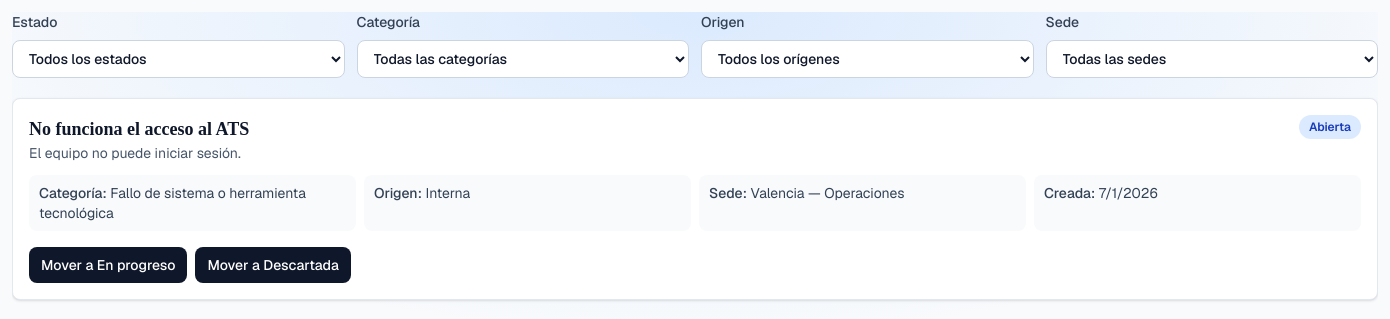
Test case: IncidentList › actualiza el estado tras confirmar la transición en el backend
Expected: the heading "No funciona el acceso al ATS" is shown, [29,115,249,143]
Click the button "Mover a En progreso". click: [108, 265]
box: [29,247,187,283]
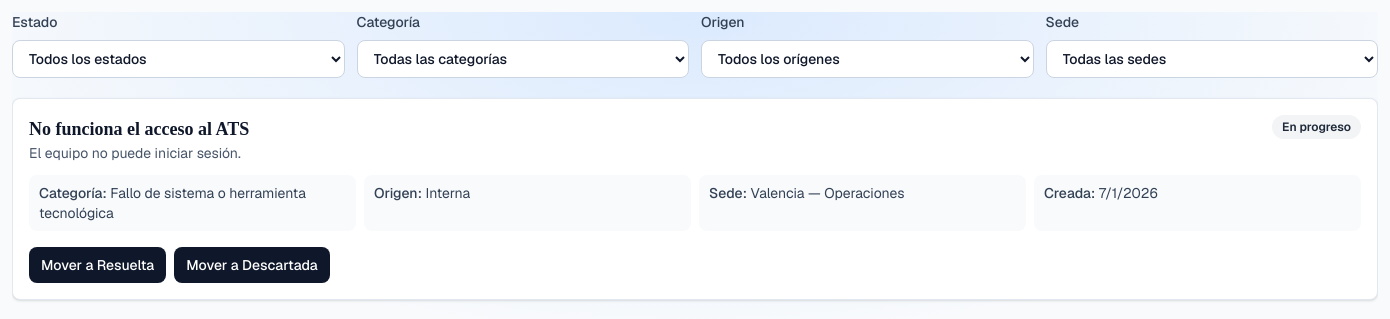
Expected: the button "Mover a Descartada" is shown, [174,247,330,283]
Expected: the button "Mover a Resuelta" is shown, [29,247,166,283]
